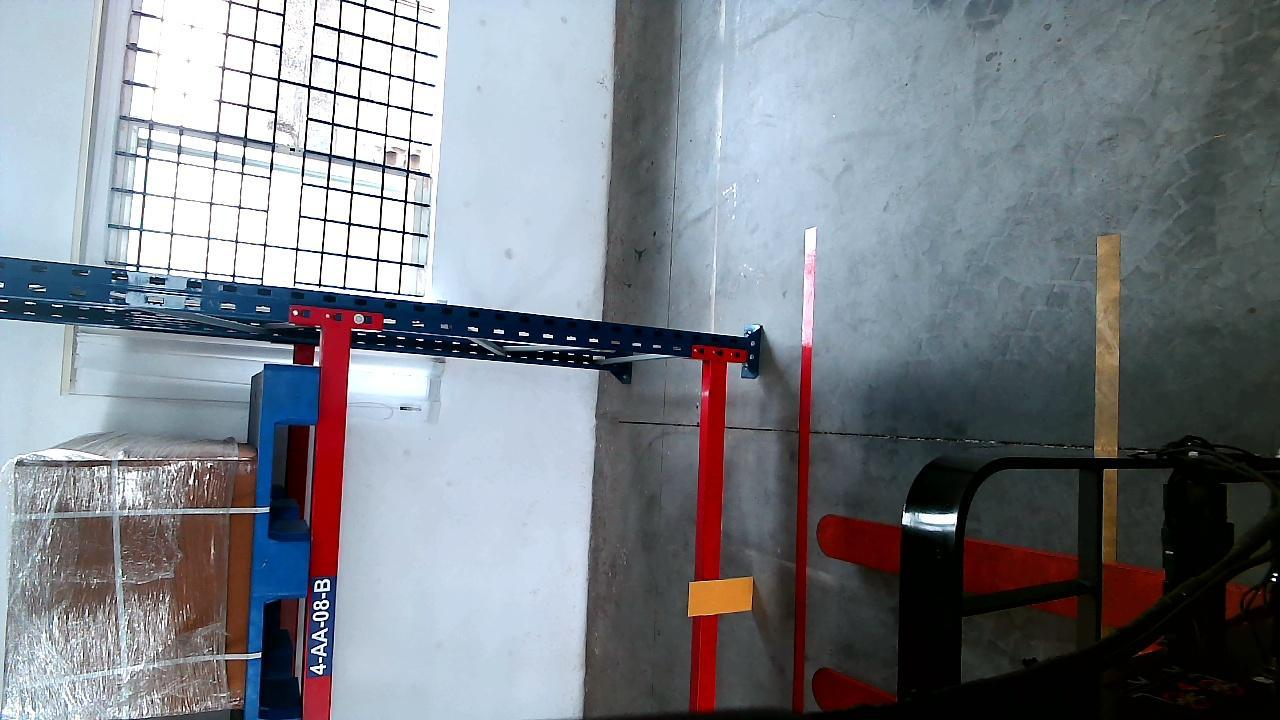red_line: (786, 228, 813, 705)
yellow_line: (1095, 224, 1121, 568)
